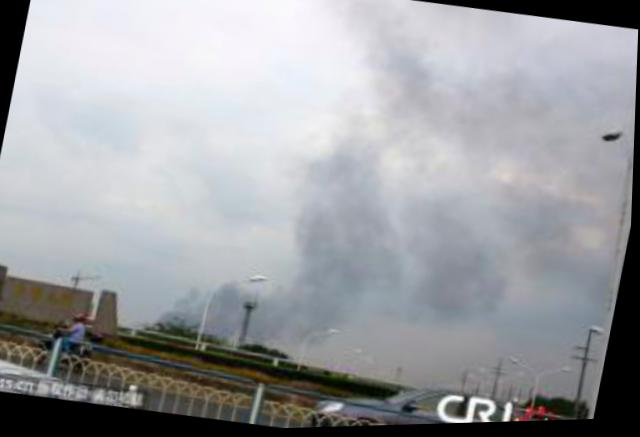smoke: (310, 0, 639, 140), (264, 115, 420, 350), (394, 184, 536, 346), (416, 105, 597, 205), (162, 270, 262, 346)
